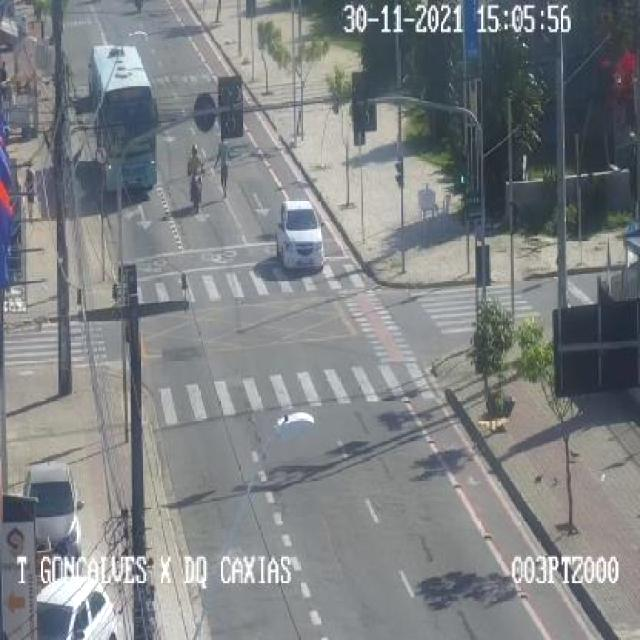Bus: (90, 44, 161, 195)
Car: (25, 462, 84, 562), (36, 575, 118, 640), (278, 200, 327, 271)
Cycle: (187, 168, 207, 211)
